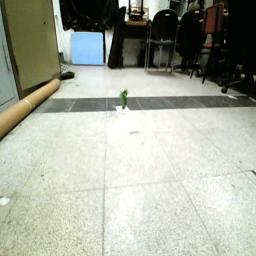herb: (119, 89, 131, 114)
